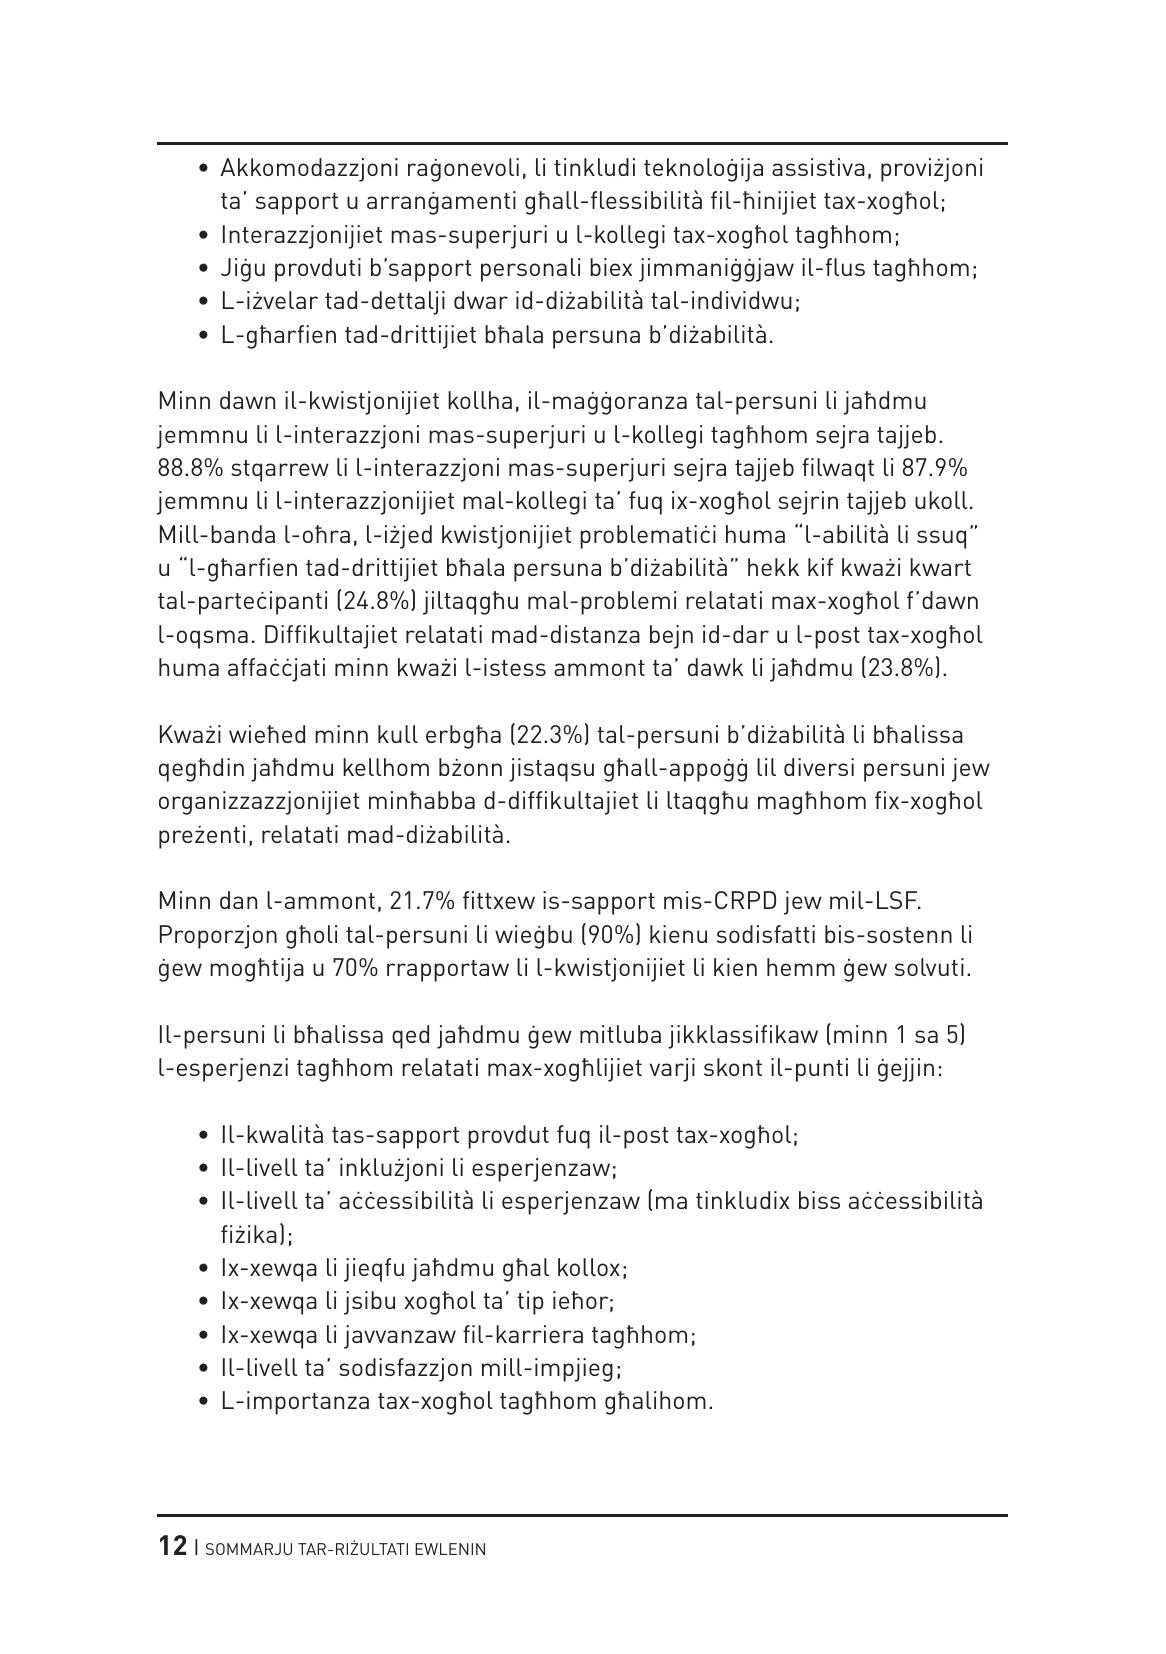text: (146, 148, 1020, 1450)
